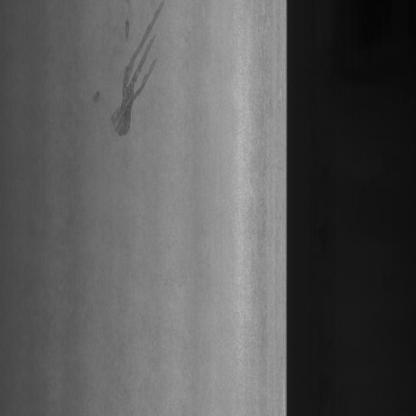water_spot: (88, 0, 176, 156)
